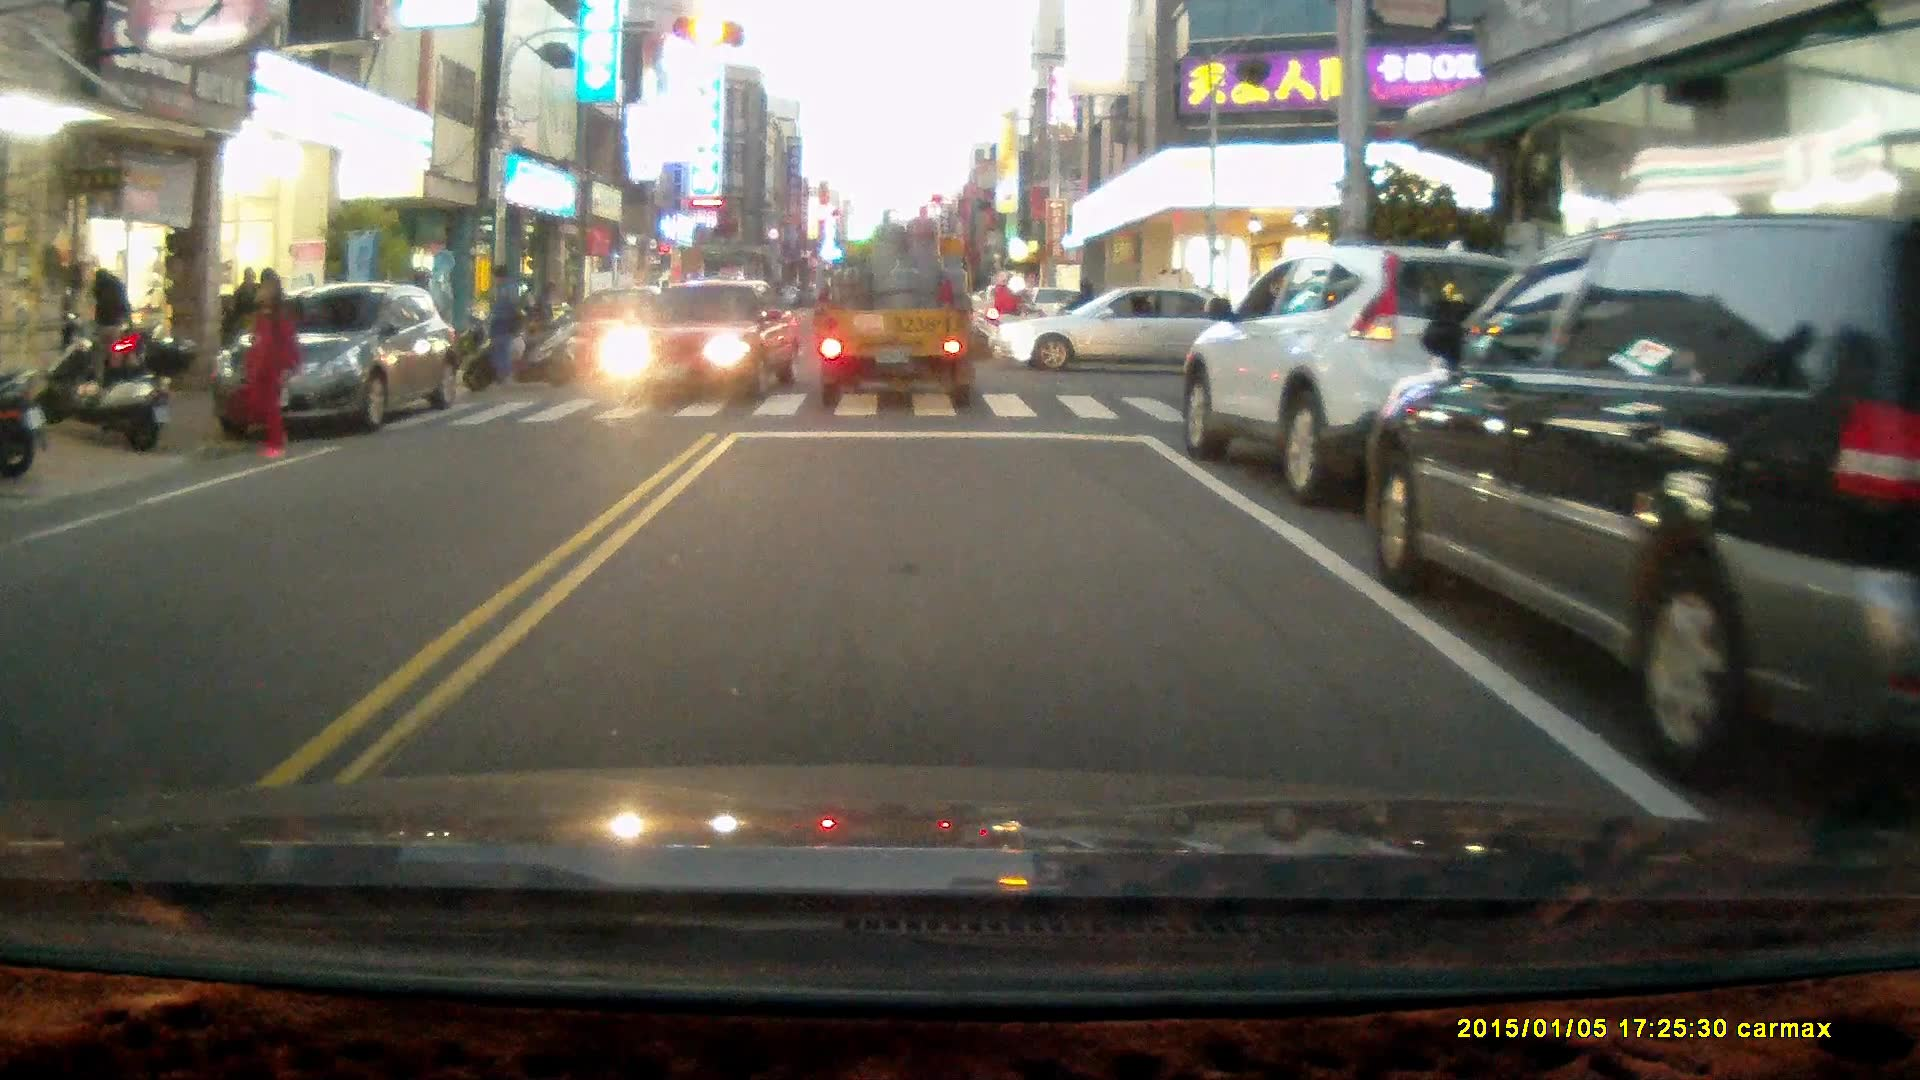pedestrian: (233, 271, 303, 462), (477, 267, 526, 398), (87, 264, 133, 381)
rider: (964, 266, 1050, 356)
vehicle: (1374, 214, 1920, 799), (1181, 245, 1575, 505), (212, 286, 450, 446), (815, 204, 991, 415), (598, 279, 803, 408), (1003, 287, 1268, 374)
